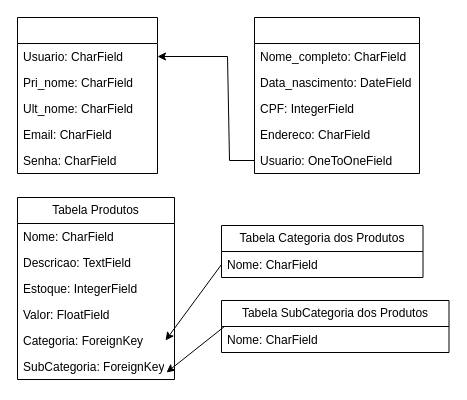
This 467x400 diagram has some shape labels left out. The box of each missing label's shape, as (x1, y1, x2, y2) in pixels:
Tabela Dados Pessoais: (254, 16, 420, 174)
Tabela Usuario: (16, 16, 158, 174)
